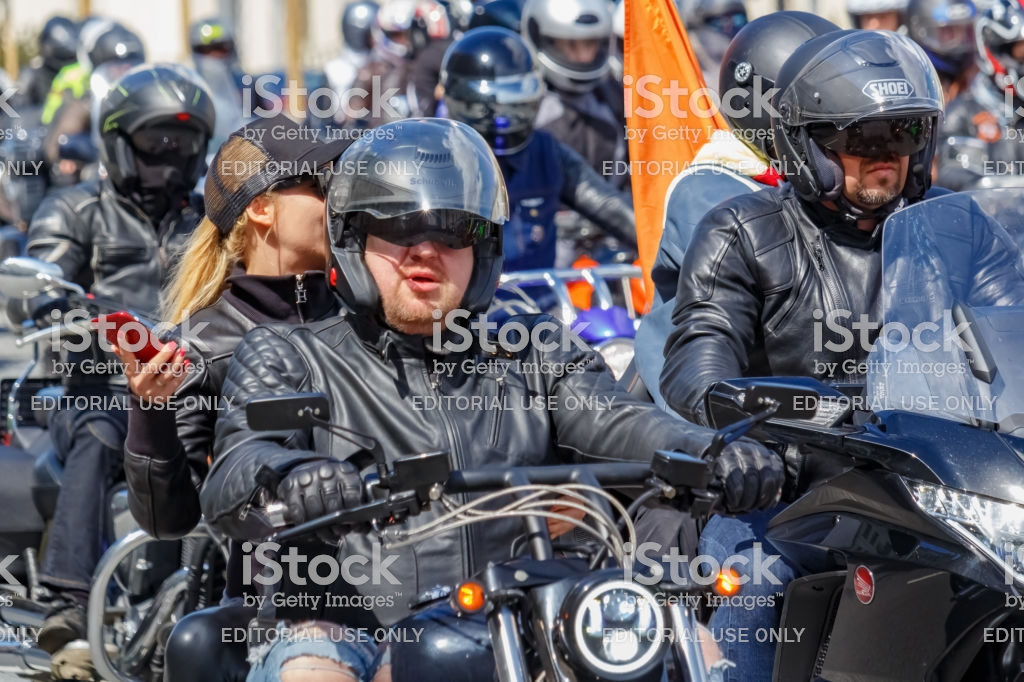helmet: (336, 138, 509, 297), (772, 52, 954, 195), (87, 81, 210, 194)
